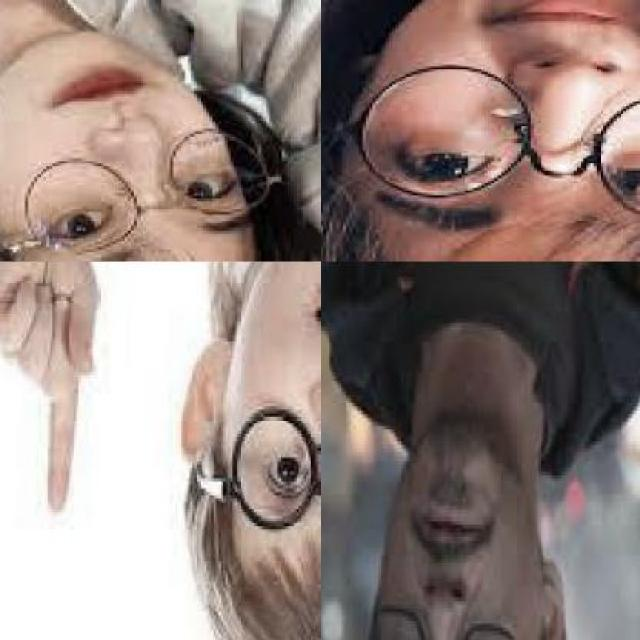glasses: (332, 66, 638, 219), (0, 122, 283, 260), (190, 408, 318, 542), (349, 596, 534, 638)
